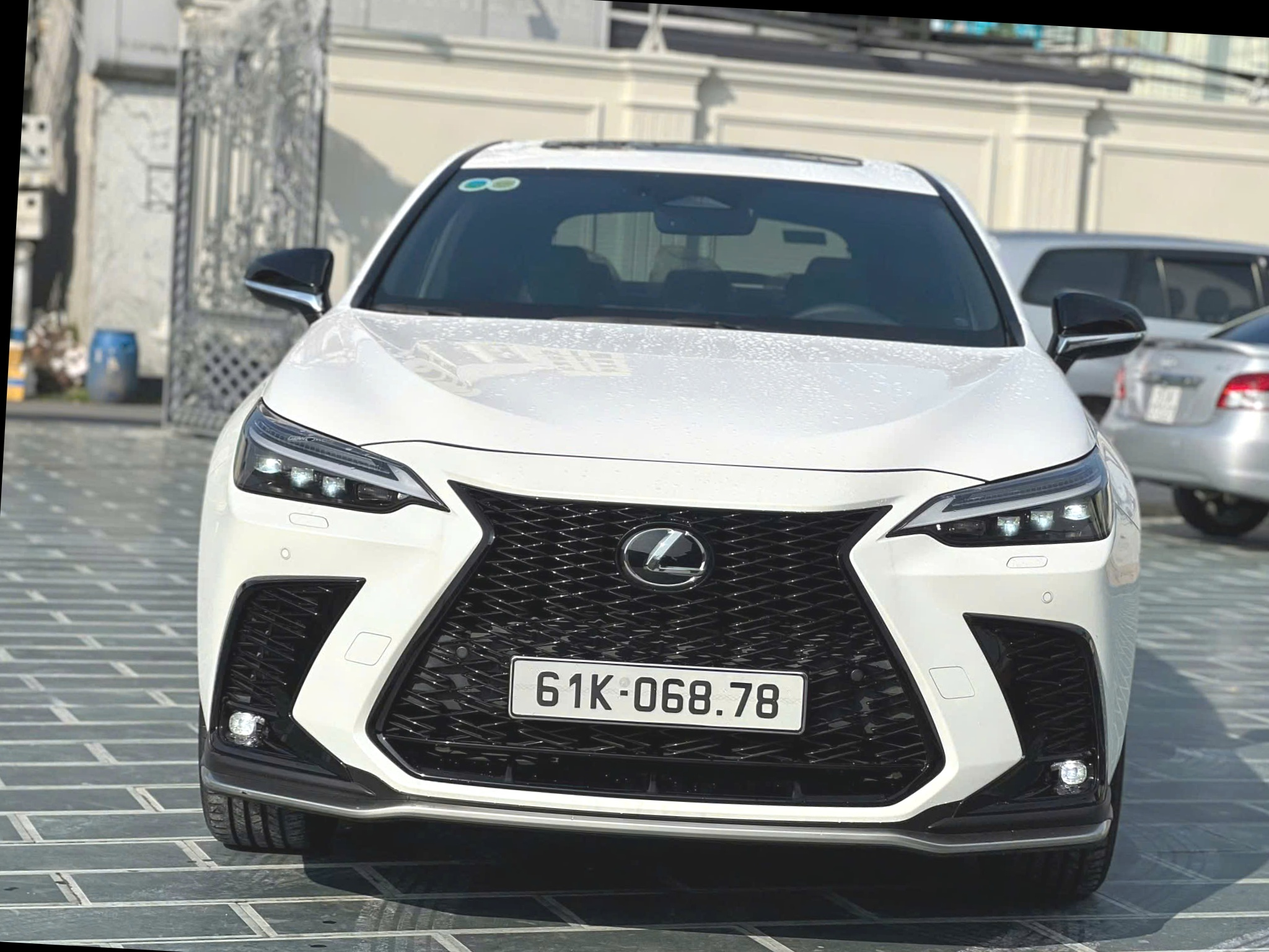Bien-so: (481, 603, 769, 694)
